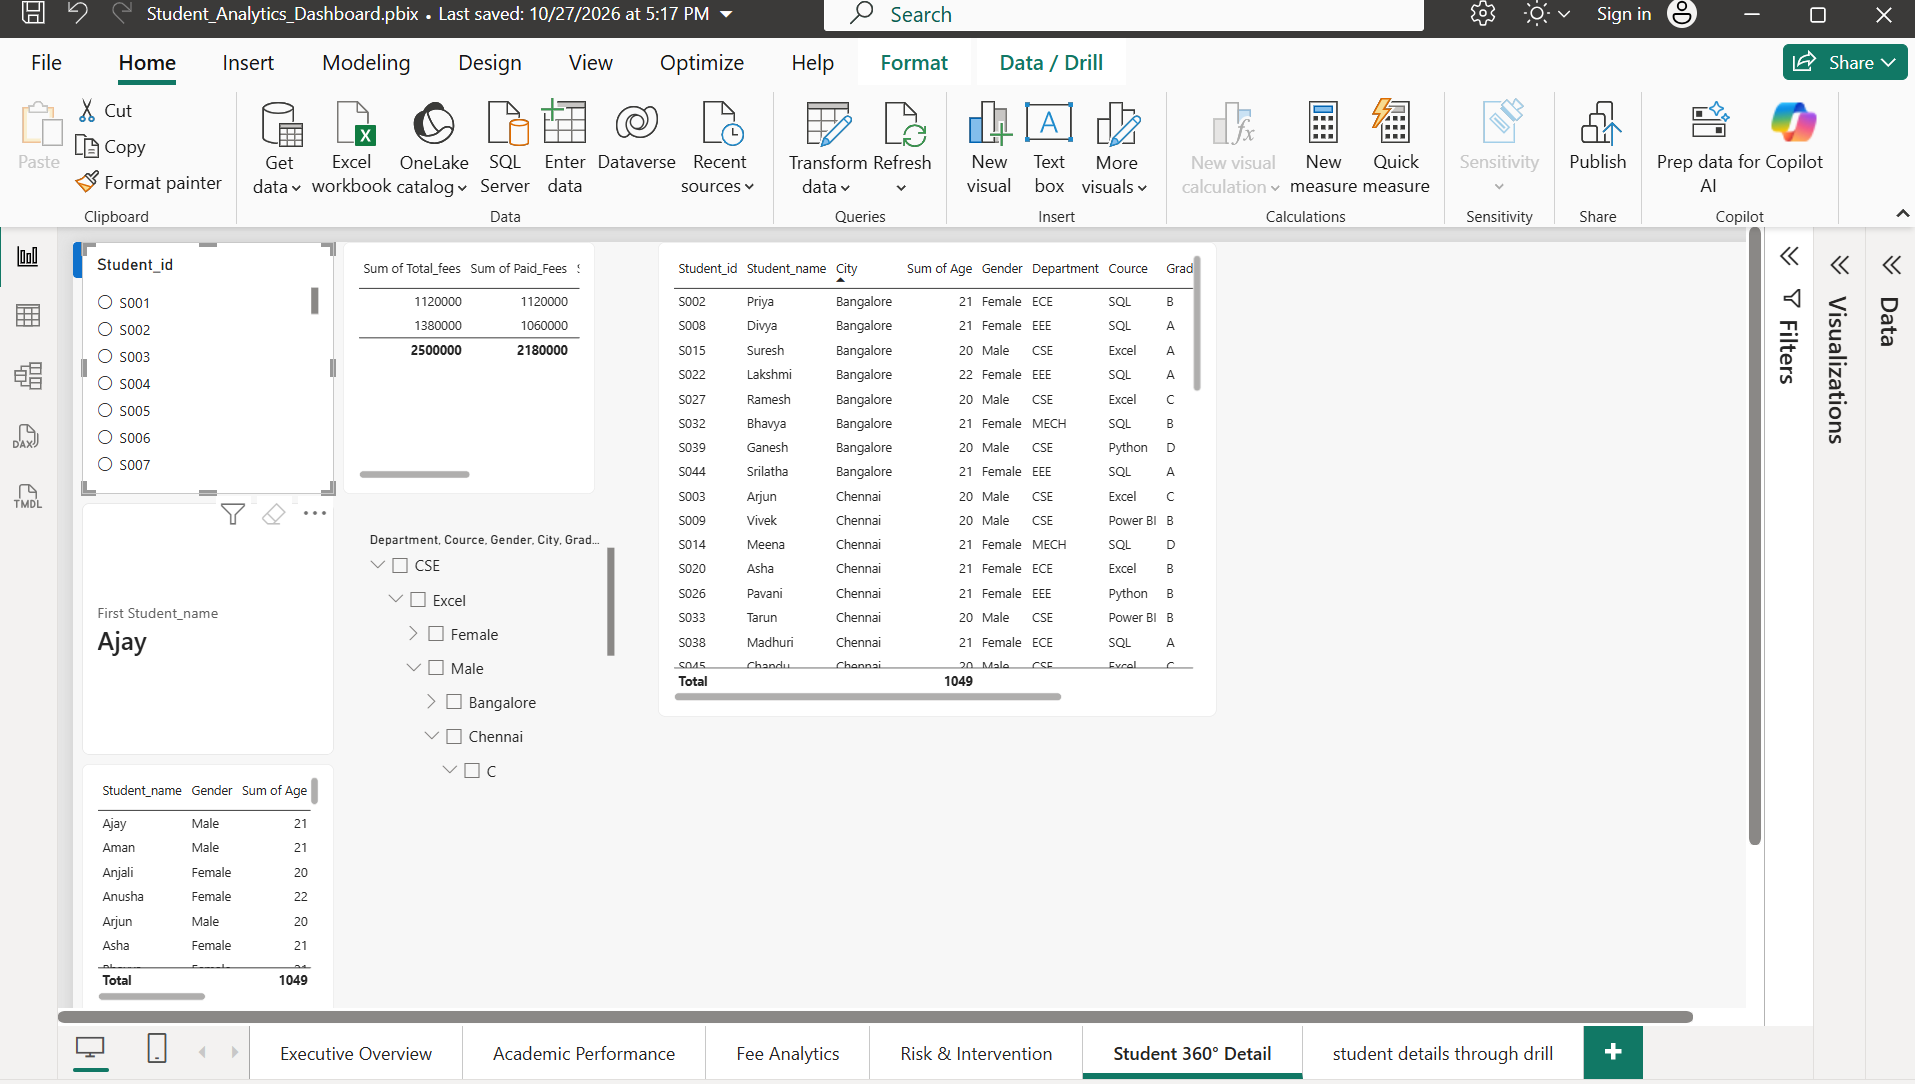

What the dashboard file says about the page in this screenshot:
{"tool":"powerbi","page":{"name":"Student 360° Detail","canvas":[1920,1080],"ordinal":4},"visuals":[{"type":"listSlicer","fields":{"Values":["Student_performance.Student_id"]},"box":[10,0,280,280],"z":0},{"type":"cardVisual","fields":{"Data":["Min(Student_performance.Student_name)"]},"box":[10,290,280,280],"z":1000},{"type":"tableEx","fields":{"Values":["Student_performance.Student_name","Student_performance.Gender","Sum(Student_performance.Age)","Student_performance.Department","Student_performance.Cource","Student_performance.City"]},"box":[10,580,280,280],"z":2000},{"type":"tableEx","fields":{"Values":["Sum(Student_performance.Marks)","Student_performance.Grade","Sum(Student_performance.Attendance_percent)","Student_performance.Risk Level"]},"box":[10,870,280,210],"z":3000},{"type":"tableEx","fields":{"Values":["Sum(Student_Fees.Total_fees)","Sum(Student_Fees.Paid_Fees)","Sum(Student_Fees.Pending_Fees)","Student_Fees.Payment_status"]},"box":[300,0,280,280],"z":4000},{"type":"slicer","fields":{"Values":["Student_performance.Department","Student_performance.Cource","Student_performance.Gender","Student_performance.City","Student_performance.Grade","Student_Fees.Payment_status","Student_performance.Risk Level"]},"box":[290,267.5,280,280],"z":5000},{"type":"actionButton","box":[0,0,100,40],"z":6000},{"type":"tableEx","fields":{"Values":["Student_performance.Student_id","Student_performance.Student_name","Student_performance.City","Sum(Student_performance.Age)","Student_performance.Gender","Student_performance.Department","Student_performance.Cource","Student_performance.Grade","Sum(Student_performance.Attendance_percent)"]},"box":[490.4,317.5,620.8,527.2],"z":6001}]}

Visuals, with their boxes on the page's 1920x1080 design canvas (x1, y1, x2, y2). These are canvas units, not pixel positions in the 1915x1084 screenshot, which may show the page scaled, cropped or inside an application window:
listSlicer - Student_performance.Student_id: {"x1": 10, "y1": 0, "x2": 290, "y2": 280}
cardVisual - Min(Student_performance.Student_name): {"x1": 10, "y1": 290, "x2": 290, "y2": 570}
tableEx - Student_performance.Student_name x Student_performance.Gender: {"x1": 10, "y1": 580, "x2": 290, "y2": 860}
tableEx - Sum(Student_performance.Marks) x Student_performance.Grade: {"x1": 10, "y1": 870, "x2": 290, "y2": 1080}
tableEx - Sum(Student_Fees.Total_fees) x Sum(Student_Fees.Paid_Fees): {"x1": 300, "y1": 0, "x2": 580, "y2": 280}
slicer - Student_performance.Department x Student_performance.Cource: {"x1": 290, "y1": 268, "x2": 570, "y2": 548}
actionButton: {"x1": 0, "y1": 0, "x2": 100, "y2": 40}
tableEx - Student_performance.Student_id x Student_performance.Student_name: {"x1": 490, "y1": 318, "x2": 1111, "y2": 845}
